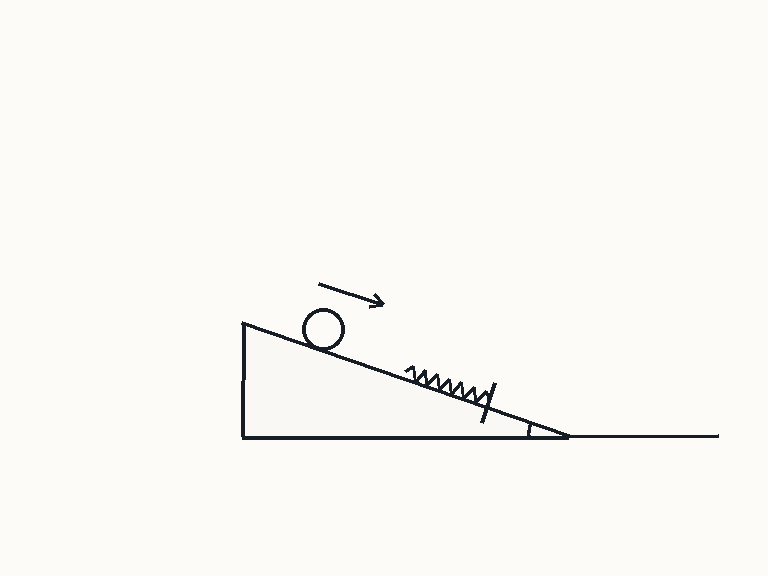ball: (300, 306, 346, 352)
ramp: (240, 322, 570, 438)
spring: (403, 364, 491, 404)
